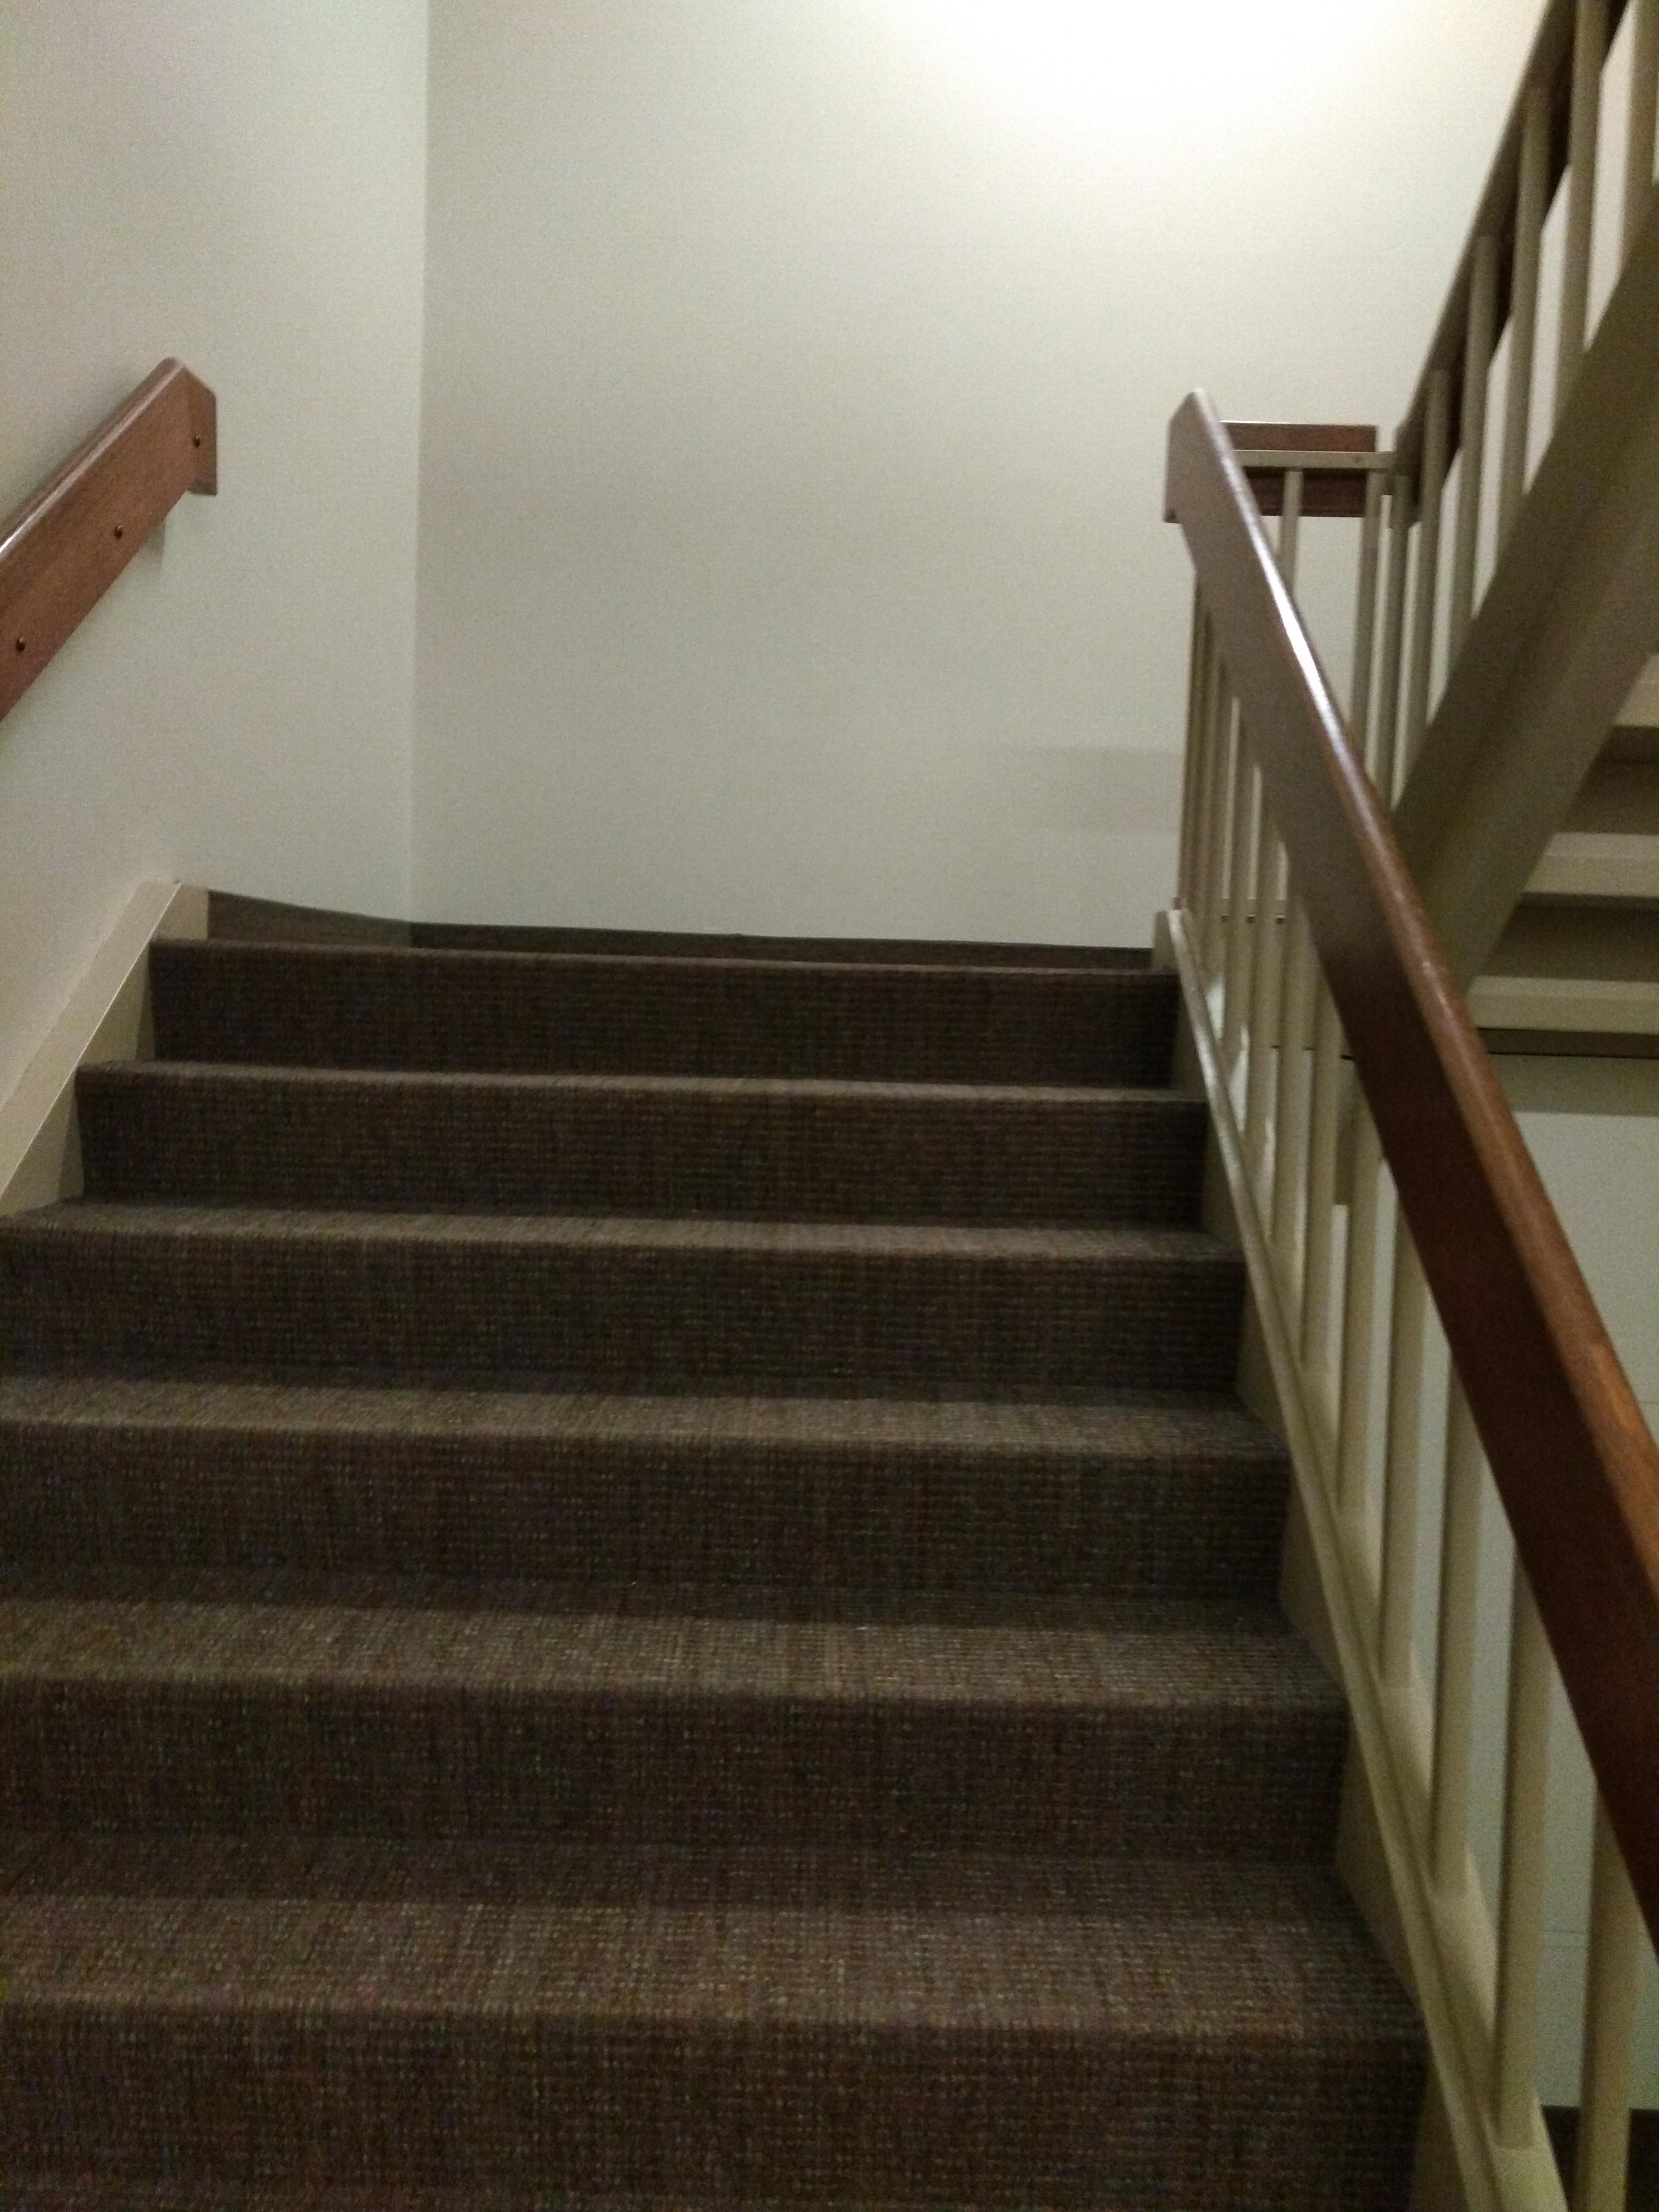stairs_up: (10, 907, 1436, 2137)
